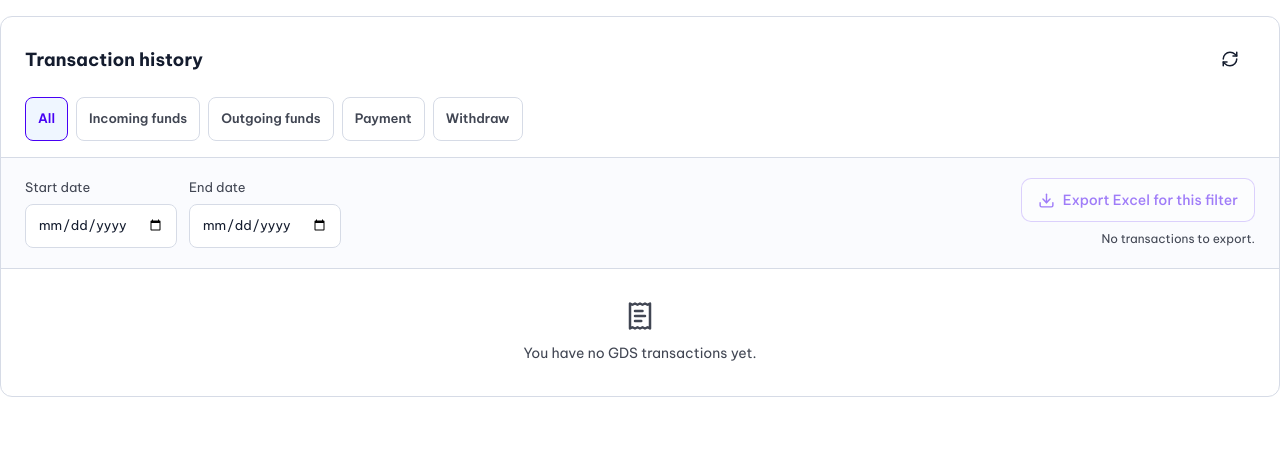
Test case: does not request an inverted date range
The width and height of the screenshot is (1280, 467).
Type "2026-11-20" into the date field labelled "Start date" at [101, 226], box [25, 204, 177, 248]
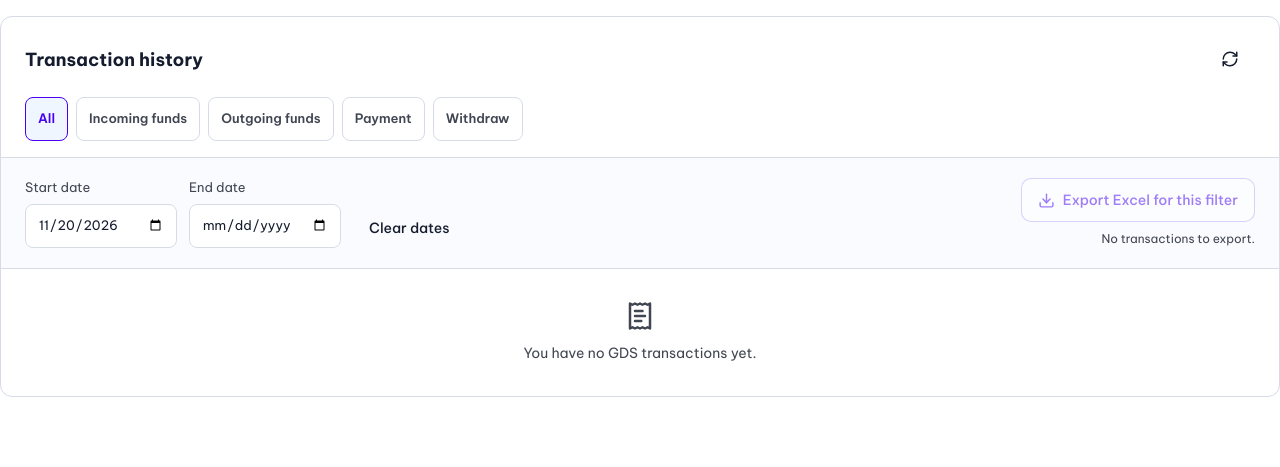
Type "2026-11-01" into the date field labelled "End date" at [265, 226], box [189, 204, 341, 248]
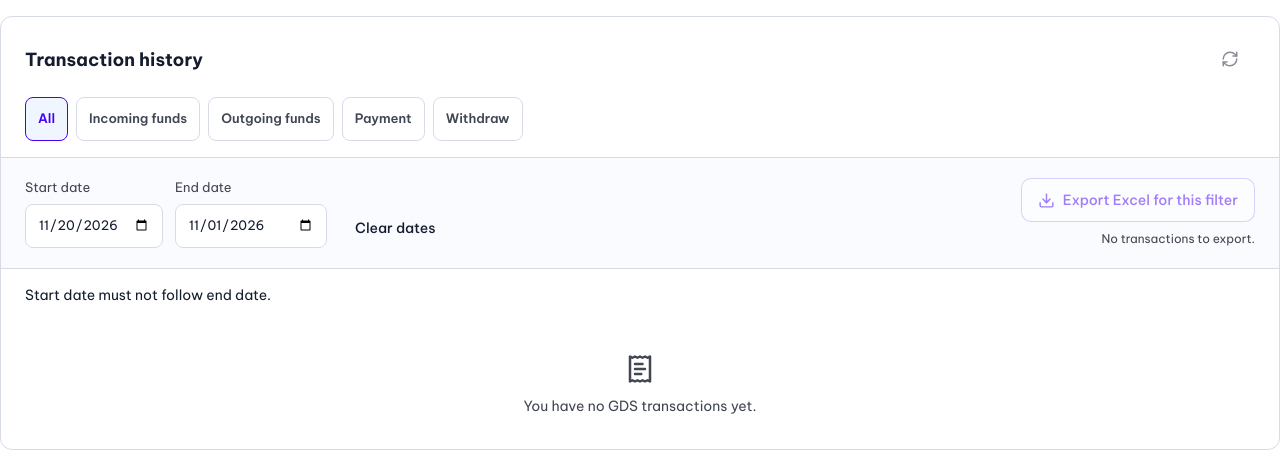
Check: the message reads "Start date must not follow end date.", box [25, 286, 271, 304]
